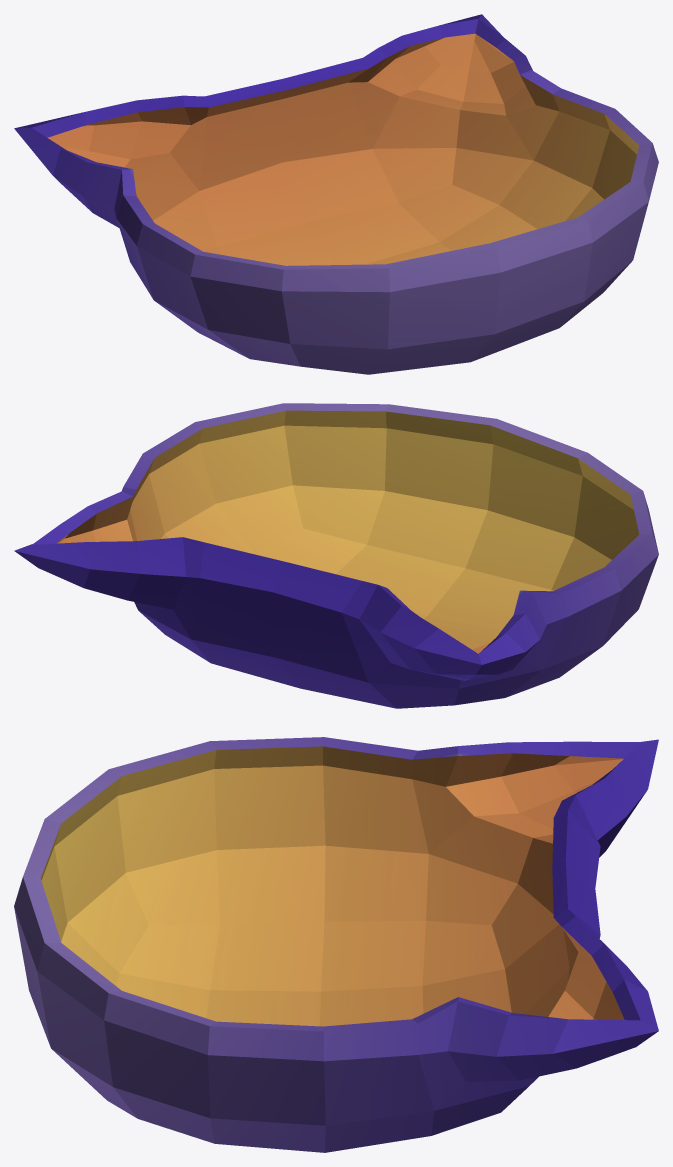
File: sp_catbowl_kitchen_a 1.fbx
The picture shows the model from 3 angles, top to bottom: view 1: azimuth 30°, elevation 25°; view 2: azimuth 150°, elevation 25°; view 3: azimuth 270°, elevation 25°; orthographic projection. The views are drawn at different scales.
Parts seen in each view (by area): view 1: sp_catbowl_kitchen_a; view 2: sp_catbowl_kitchen_a; view 3: sp_catbowl_kitchen_a.
Boxes of the visible parts, x1,y1,x2,y2 form: sp_catbowl_kitchen_a: (14, 14, 658, 374); sp_catbowl_kitchen_a: (14, 403, 658, 708); sp_catbowl_kitchen_a: (14, 737, 658, 1152).
Size of the model in its own units: 16.87 by 5.91 by 15.22.
